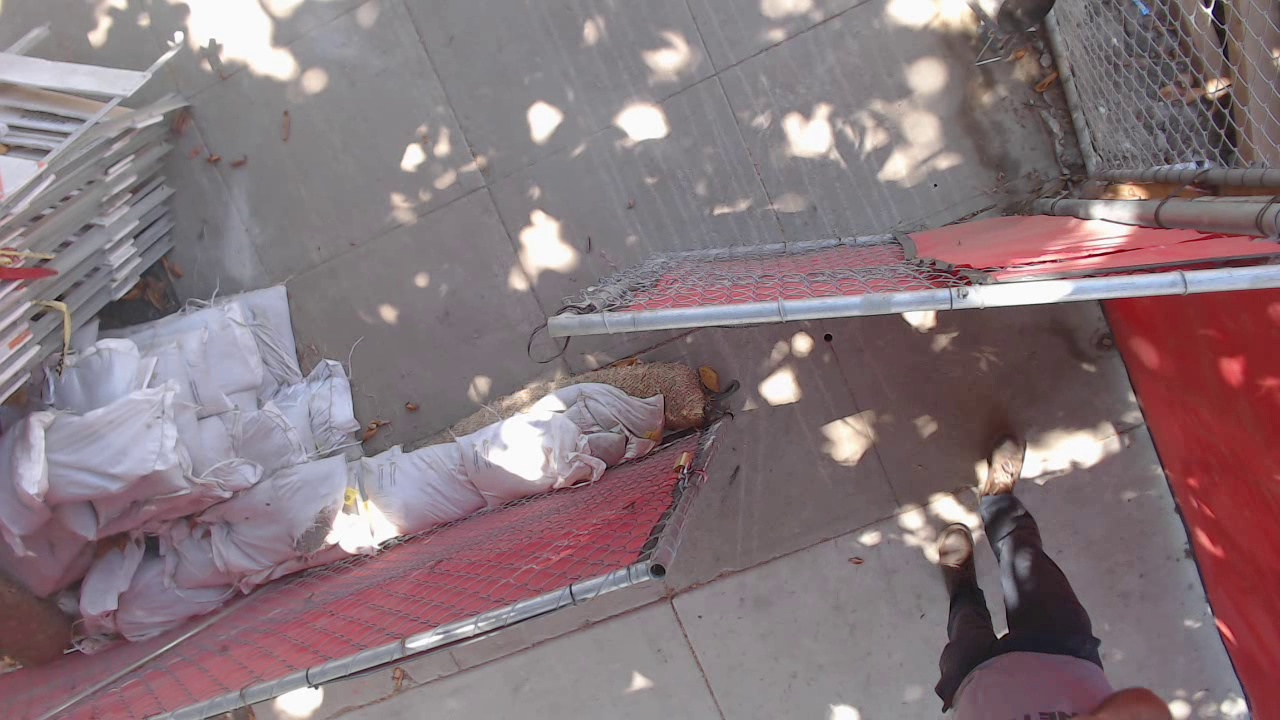person: (517, 1, 733, 211)
safetyvest: (514, 1, 723, 77)
